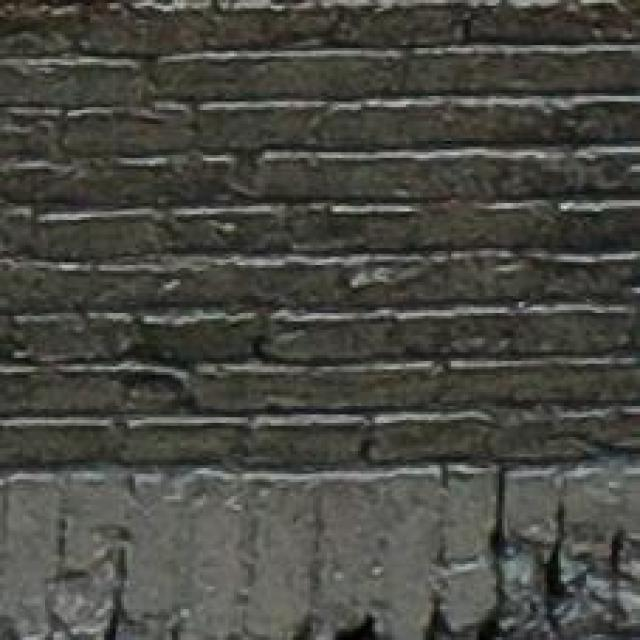Crack: (79, 192, 640, 640)
